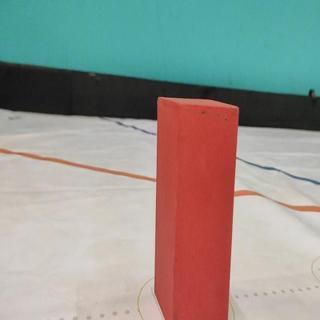redbox: (157, 99, 228, 320)
